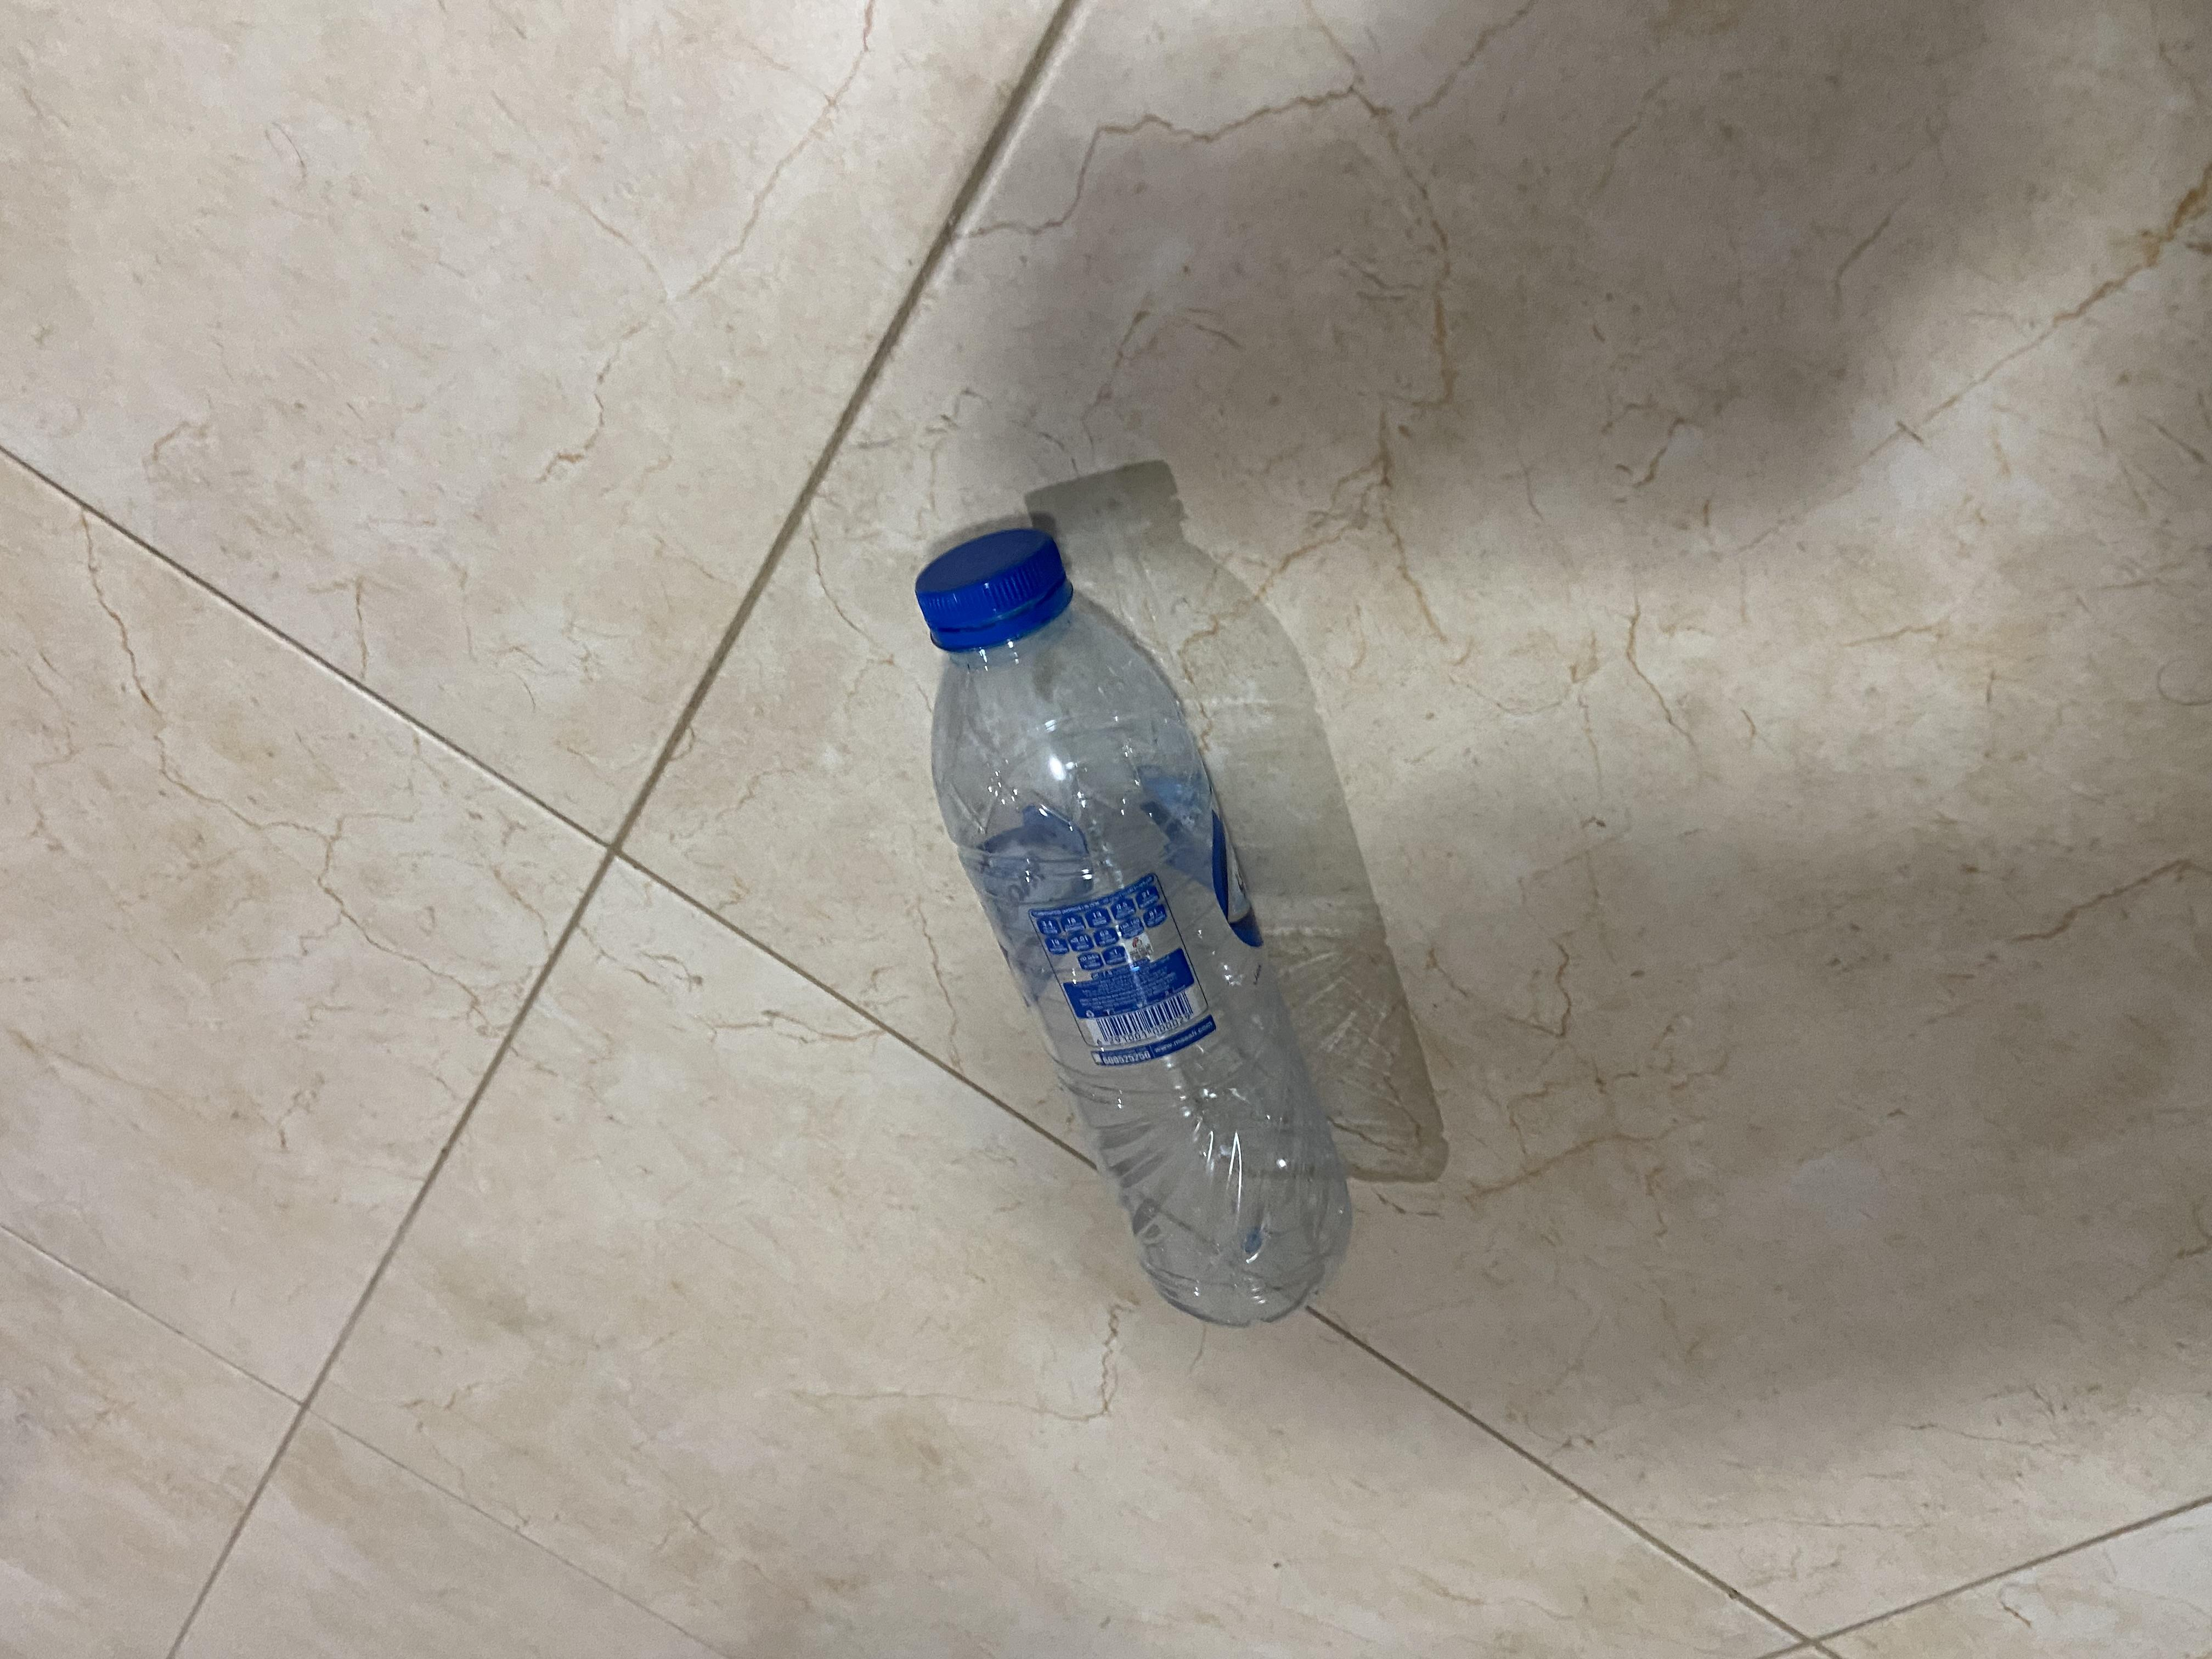bottle: (453, 664, 1517, 1033)
